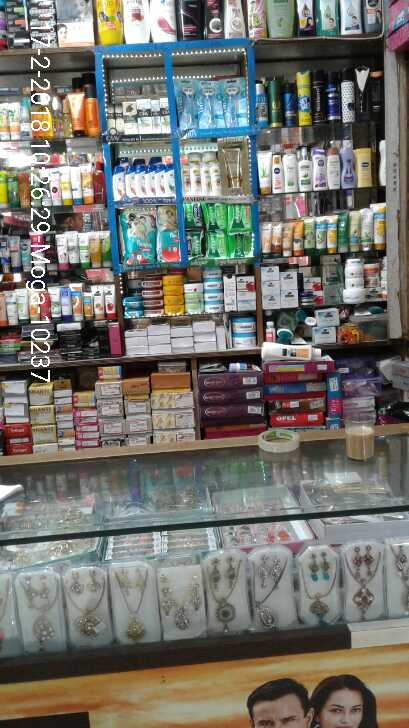venus: (222, 77, 246, 125), (177, 80, 200, 126), (200, 80, 222, 125)
